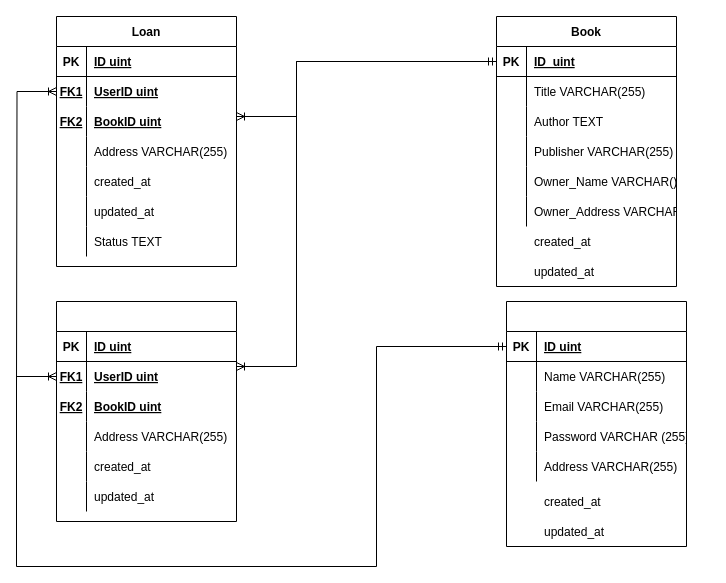
The diagram is 726 pixels wide and 583 high, and some of its shapes have lost their labels. Each missing label, with the box of its shape:
Retur: (56, 300, 236, 522)
User: (506, 300, 686, 546)
